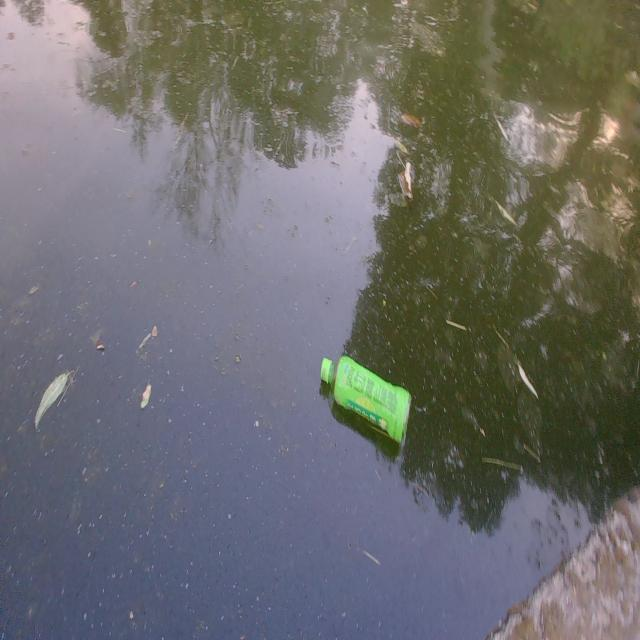bottle: (302, 313, 428, 473)
